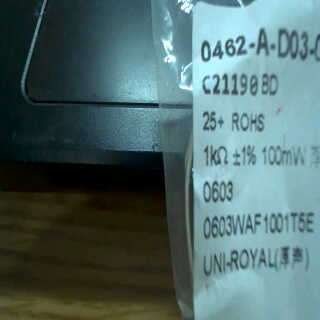1kR: (204, 139, 230, 171)
